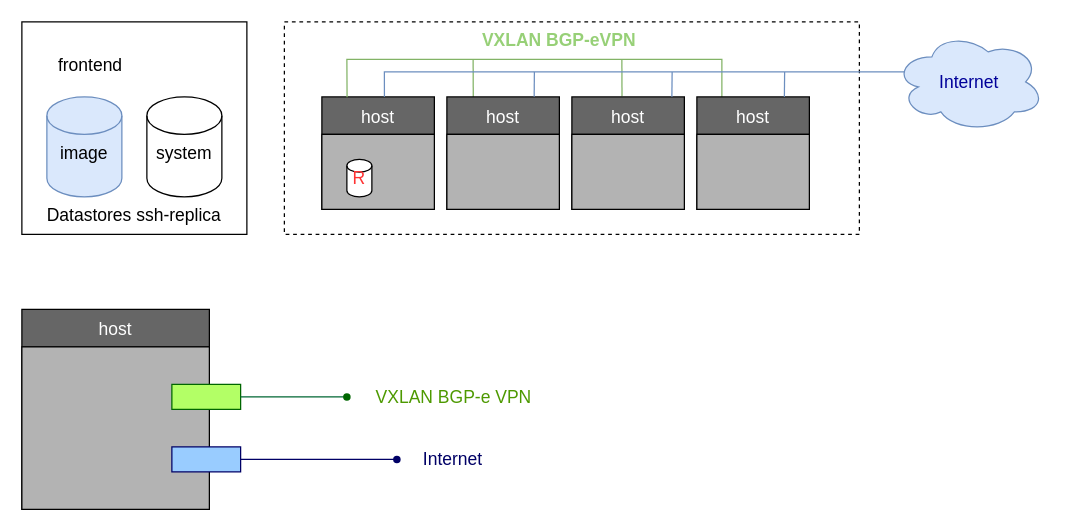
This 1066x531 diagram has some shape labels left out. Here are the shapes that lost their labels. From the top down, the box of each, then its label:
(171, 383, 241, 409): eth0
(171, 446, 241, 472): eth1
